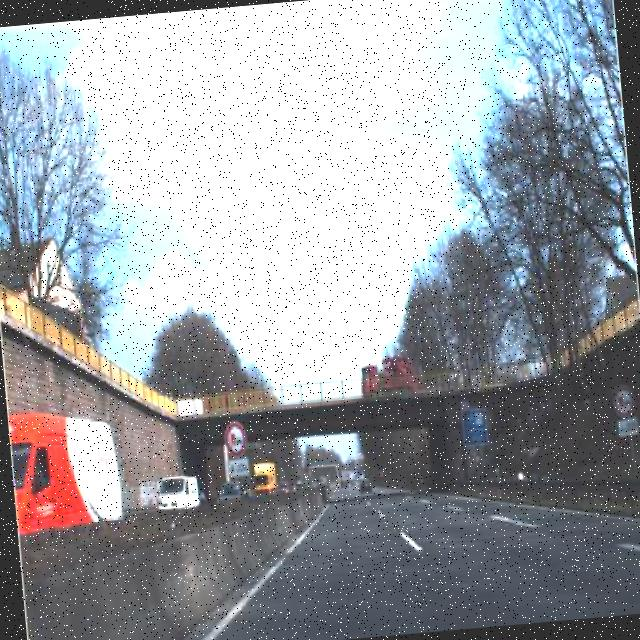Zakaz wyprzedzania: (220, 416, 248, 458)
